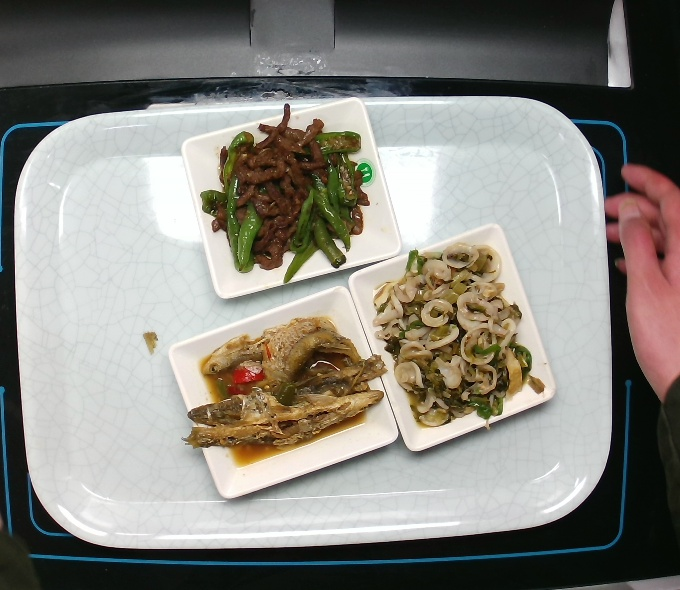wcq-QingJiaoNiuRou: (184, 100, 380, 280)
wcq-XiaoXiYu: (179, 318, 389, 459)
wcq-XueCaiYouYu: (367, 237, 548, 437)
